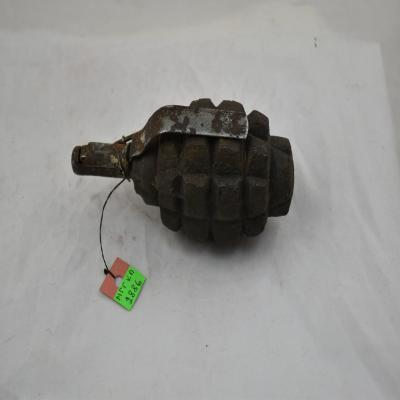other: (70, 99, 295, 248)
